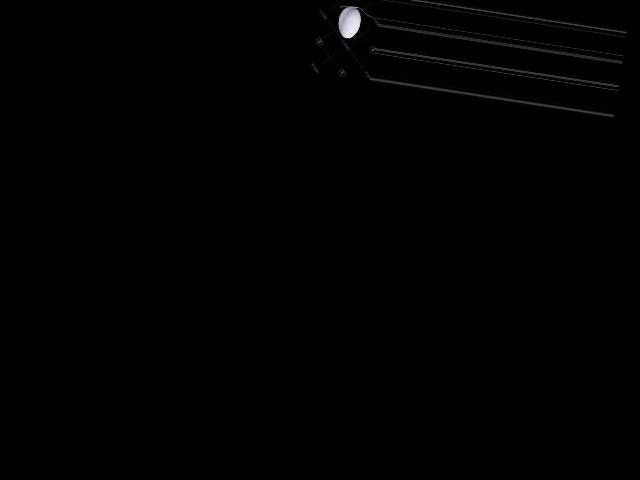egg: (336, 4, 363, 39)
